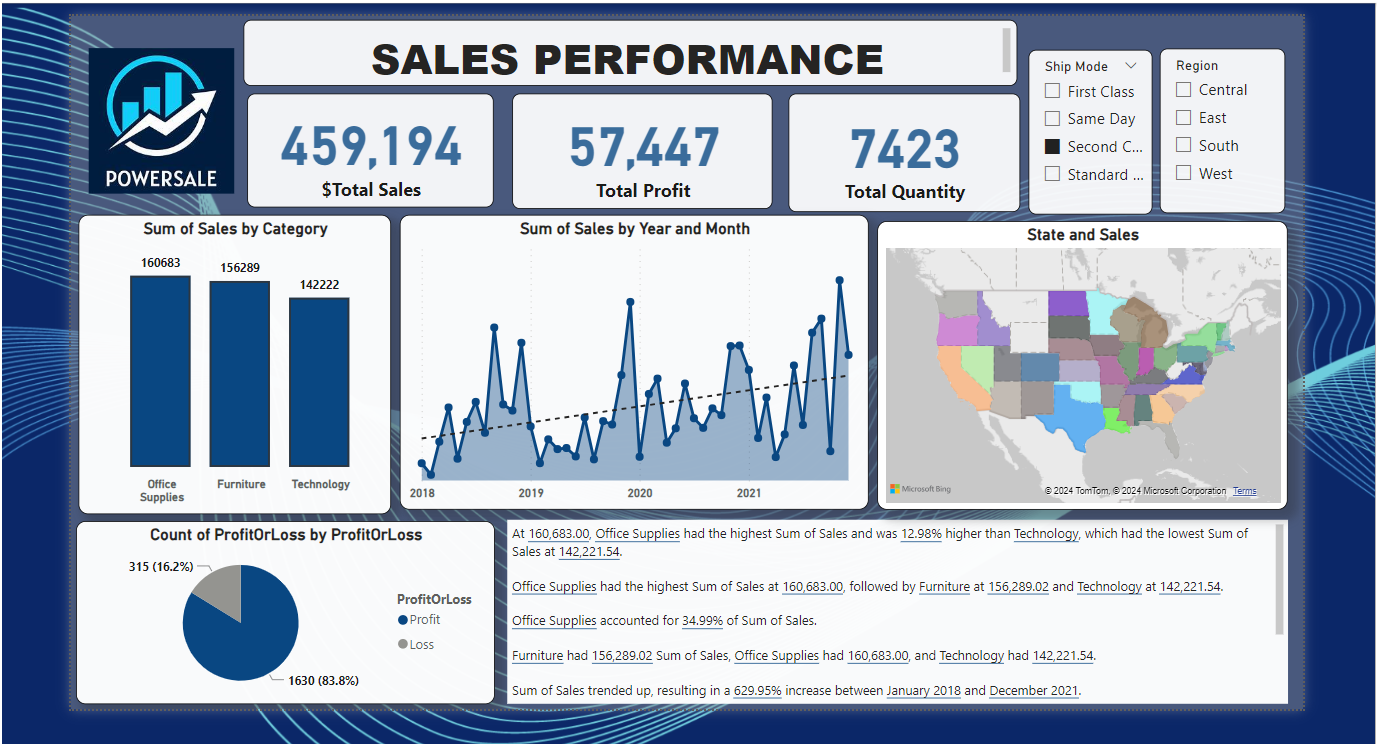

What the dashboard file says about the page in this screenshot:
{"tool":"powerbi","page":{"name":"Page 1","canvas":[1280,720],"ordinal":0},"visuals":[{"type":"card","fields":{"Values":["Sum(Orders.Profit)"]},"box":[458.3,81,270.6,119.7],"z":0},{"type":"card","fields":{"Values":["Orders.$Total Sales"]},"box":[182.5,81,255.8,118.6],"z":1},{"type":"card","fields":{"Values":["Sum(Orders.Quantity)"]},"box":[745.1,81,240.4,123],"z":2},{"type":"clusteredColumnChart","fields":{"Category":["Orders.Category"],"Y":["Sum(Orders.Sales)"]},"box":[7.5,206.2,325,311.2],"z":3},{"type":"areaChart","fields":{"Category":["Orders.Order Date.Variation.Date Hierarchy.Year","Orders.Order Date.Variation.Date Hierarchy.Month"],"Y":["Sum(Orders.Sales)"]},"box":[341.2,206.2,487.5,306.2],"z":4},{"type":"pieChart","fields":{"Category":["Orders.ProfitOrLoss"],"Y":["CountNonNull(Orders.ProfitOrLoss)"]},"box":[5.5,524.2,435.5,190.7],"z":6},{"type":"slicer","fields":{"Values":["Orders.Region"]},"box":[1130.7,33.5,130.4,171],"z":8},{"type":"slicer","fields":{"Values":["Orders.Ship Mode"]},"box":[994.9,34.9,129,171],"z":9},{"type":"textbox","box":[453,524,811,191],"z":10},{"type":"image","box":[0,28.8,187.7,161.3],"z":11},{"type":"textbox","box":[179.8,4.1,804.1,69.2],"z":12},{"type":"filledMap","fields":{"Category":["Orders.State"],"Series":["Orders.Sales"]},"box":[837.5,212.5,426.2,300],"z":13}]}

Visuals, with their boxes on the page's 1280x720 design canvas (x1, y1, x2, y2). These are canvas units, not pixel positions in the 1379x746 screenshot, which may show the page scaled, cropped or inside an application window:
card - Sum(Orders.Profit): x1=458, y1=81, x2=729, y2=201
card - Orders.$Total Sales: x1=182, y1=81, x2=438, y2=200
card - Sum(Orders.Quantity): x1=745, y1=81, x2=986, y2=204
clusteredColumnChart - Orders.Category x Sum(Orders.Sales): x1=8, y1=206, x2=332, y2=517
areaChart - Orders.Order Date.Variation.Date Hierarchy.Year x Orders.Order Date.Variation.Date Hierarchy.Month: x1=341, y1=206, x2=829, y2=512
pieChart - Orders.ProfitOrLoss x CountNonNull(Orders.ProfitOrLoss): x1=6, y1=524, x2=441, y2=715
slicer - Orders.Region: x1=1131, y1=34, x2=1261, y2=204
slicer - Orders.Ship Mode: x1=995, y1=35, x2=1124, y2=206
textbox: x1=453, y1=524, x2=1264, y2=715
image: x1=0, y1=29, x2=188, y2=190
textbox: x1=180, y1=4, x2=984, y2=73
filledMap - Orders.State x Orders.Sales: x1=838, y1=212, x2=1264, y2=512
